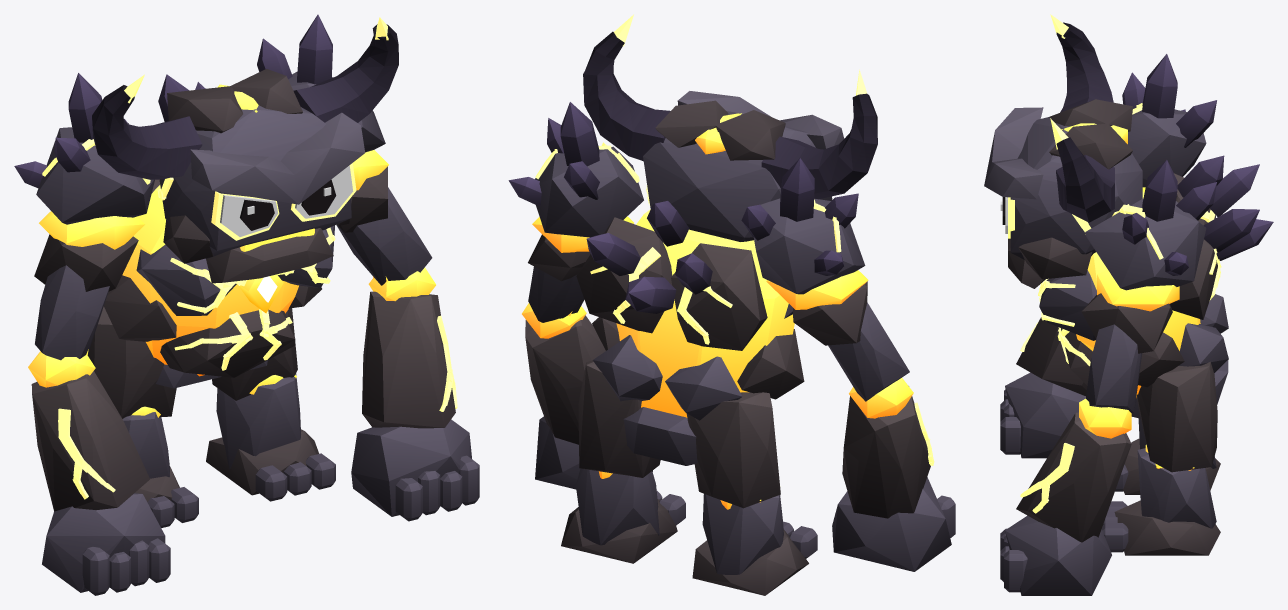
The model's file is MagmaGolem.glb.
3 views of the same model, side by side, from view 1: azimuth 30°, elevation 25°; view 2: azimuth 150°, elevation 25°; view 3: azimuth 270°, elevation 25° (orthographic). The views are drawn at different scales.
Visible parts, largest first — view 1: MagmaGolem; view 2: MagmaGolem; view 3: MagmaGolem.
Part boxes in pixels (x1=…): MagmaGolem: x1=14, y1=14, x2=479, y2=595; MagmaGolem: x1=508, y1=14, x2=955, y2=595; MagmaGolem: x1=984, y1=14, x2=1273, y2=595.
Bounding box in the file's own units: 1.01 × 1.11 × 0.6577.
Materials: 1 (1 with a texture image).
